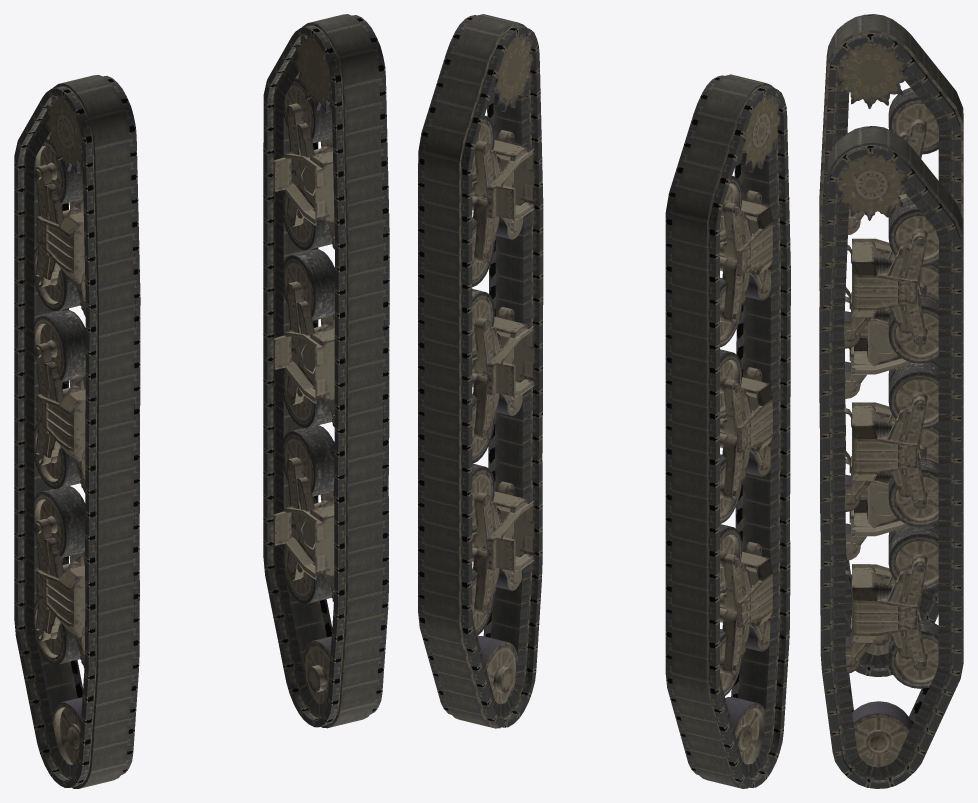
The model's file is Chassis.glb.
3 renders of one model, left to right at view 1: azimuth 30°, elevation 25°; view 2: azimuth 150°, elevation 25°; view 3: azimuth 270°, elevation 25°, orthographic. The views are drawn at different scales.
Visible parts, largest first — view 1: set_1_group_0, set_0_group_0, set_3_group_0, set_2_group_0; view 2: set_1_group_0, set_0_group_0, set_3_group_0, set_2_group_0; view 3: set_3_group_0, set_0_group_0, set_2_group_0, set_1_group_0.
Boxes of the visible parts, x1,y1,x2,y2 form: set_1_group_0: [14, 75, 140, 788]; set_0_group_0: [263, 14, 389, 728]; set_3_group_0: [273, 34, 334, 703]; set_2_group_0: [34, 95, 85, 764]; set_1_group_0: [665, 74, 790, 788]; set_0_group_0: [418, 14, 543, 728]; set_3_group_0: [472, 34, 534, 704]; set_2_group_0: [720, 94, 780, 764]; set_3_group_0: [835, 154, 939, 767]; set_0_group_0: [819, 126, 963, 788]; set_2_group_0: [835, 42, 939, 655]; set_1_group_0: [819, 14, 963, 676].
Bounding box in the file's own units: 2.58 × 5.7 × 1.16.
4 materials, 4 textured.
